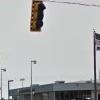Traffic light: (23, 0, 52, 41)
